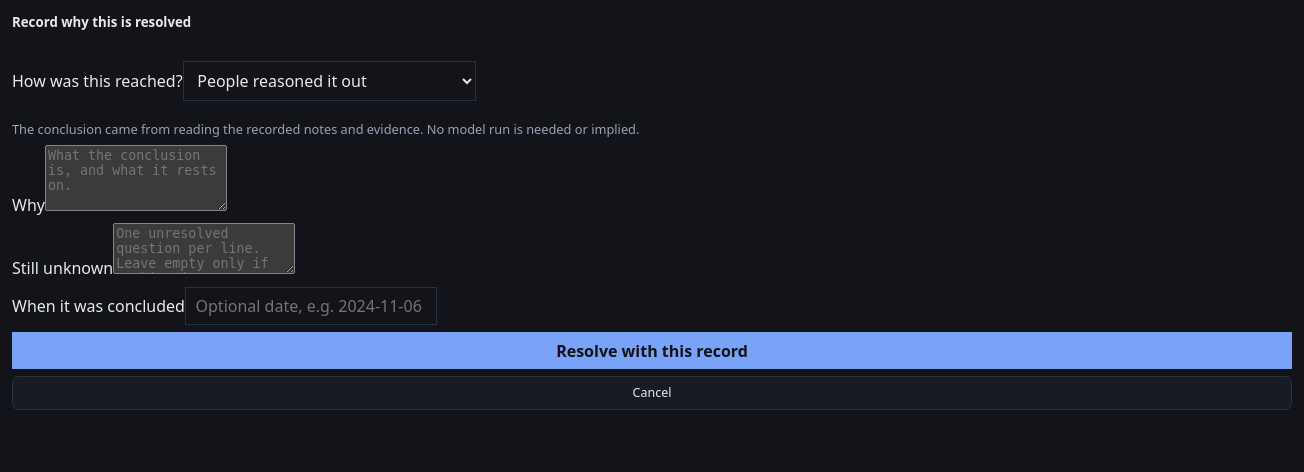
Test: the resolution form › asks for the accepted decision only when a comparison is the basis
Step 1. Select "An accepted comparison decision" in the dropdown labelled "How was this reached?" → coordinates (329, 81), box [183,60,476,101]
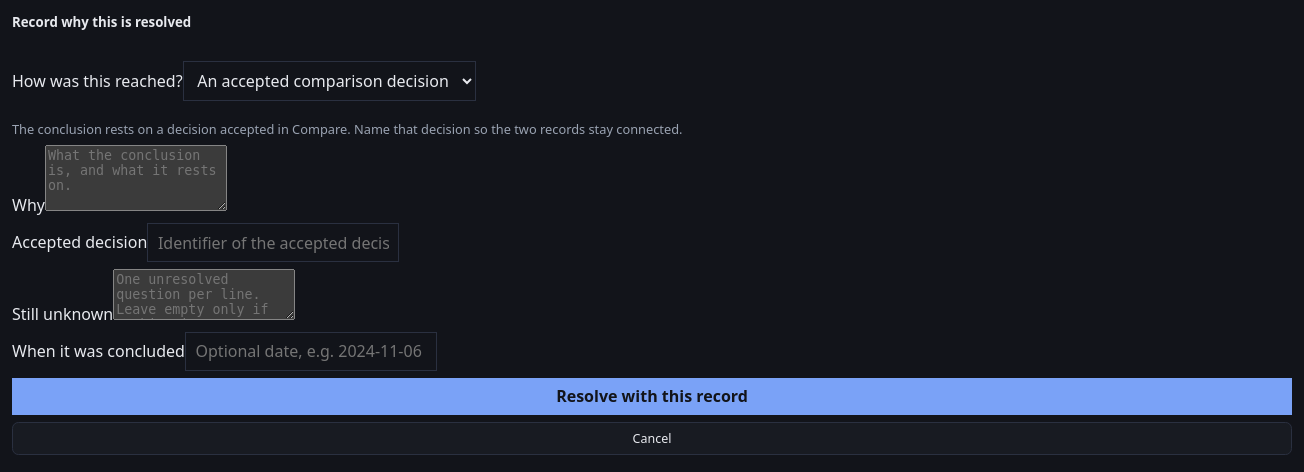
Expected: the field labelled "Accepted decision" is shown, [147,224,400,262]
